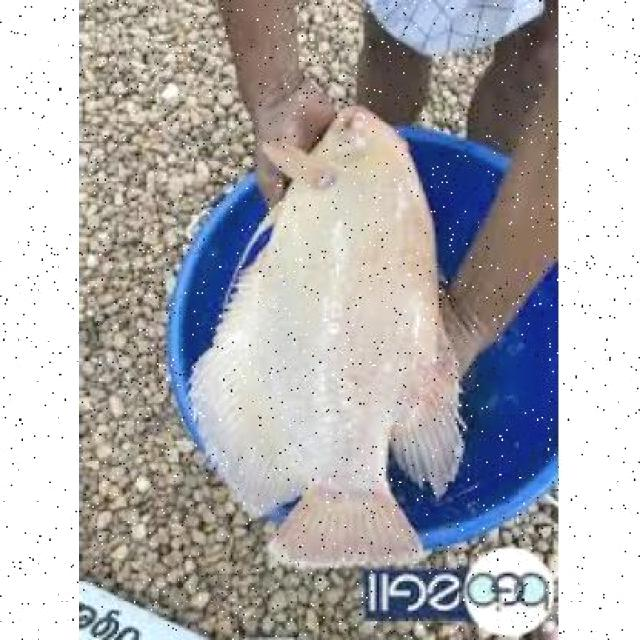gurame: (197, 91, 465, 552)
